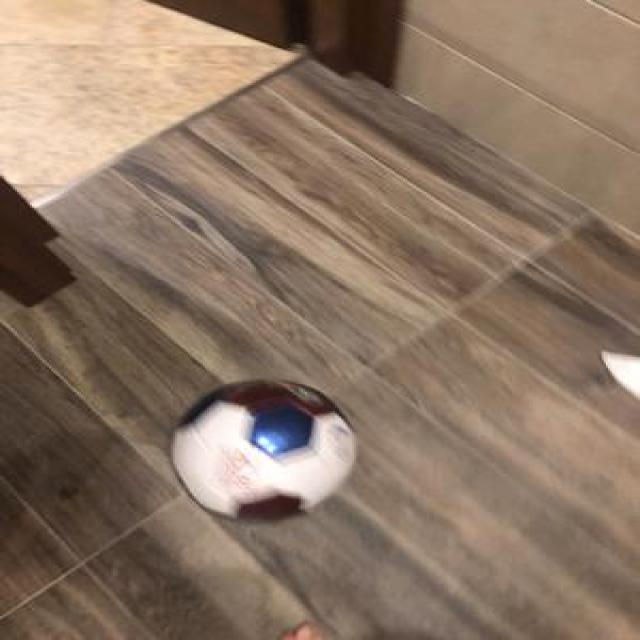Soccer Ball: (167, 379, 354, 522)
